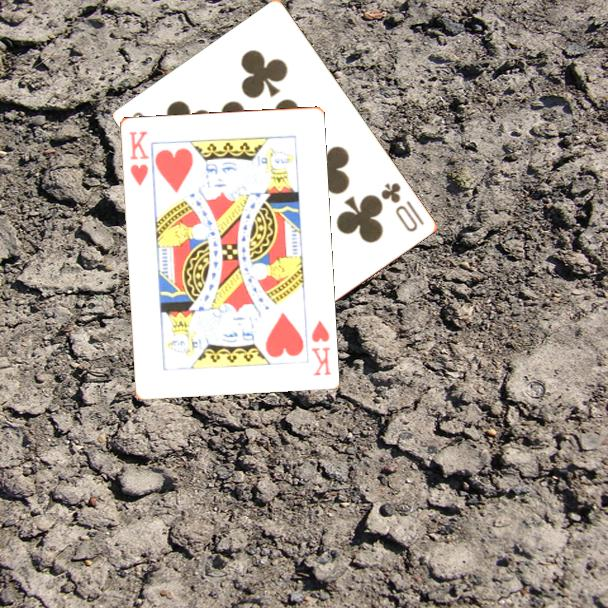c10: (378, 179, 427, 235)
h13: (125, 127, 151, 189), (308, 317, 333, 378)
